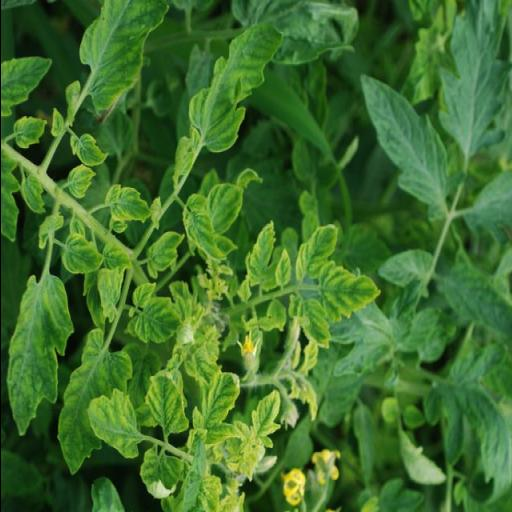Healthy: (358, 78, 462, 212)
Yellow Leaf Curl Virus: (184, 24, 286, 152), (4, 272, 74, 442), (57, 327, 131, 477), (76, 2, 166, 114), (312, 258, 378, 326), (122, 280, 183, 344), (84, 389, 138, 461), (190, 371, 242, 444), (142, 368, 188, 438), (176, 192, 222, 262), (294, 223, 339, 286), (138, 446, 182, 498), (242, 221, 274, 288), (250, 386, 282, 450), (144, 231, 185, 279), (104, 182, 151, 222), (60, 238, 102, 278), (3, 115, 48, 152), (93, 268, 123, 322), (300, 297, 330, 351), (69, 132, 108, 167), (64, 164, 96, 200), (20, 176, 44, 214)
